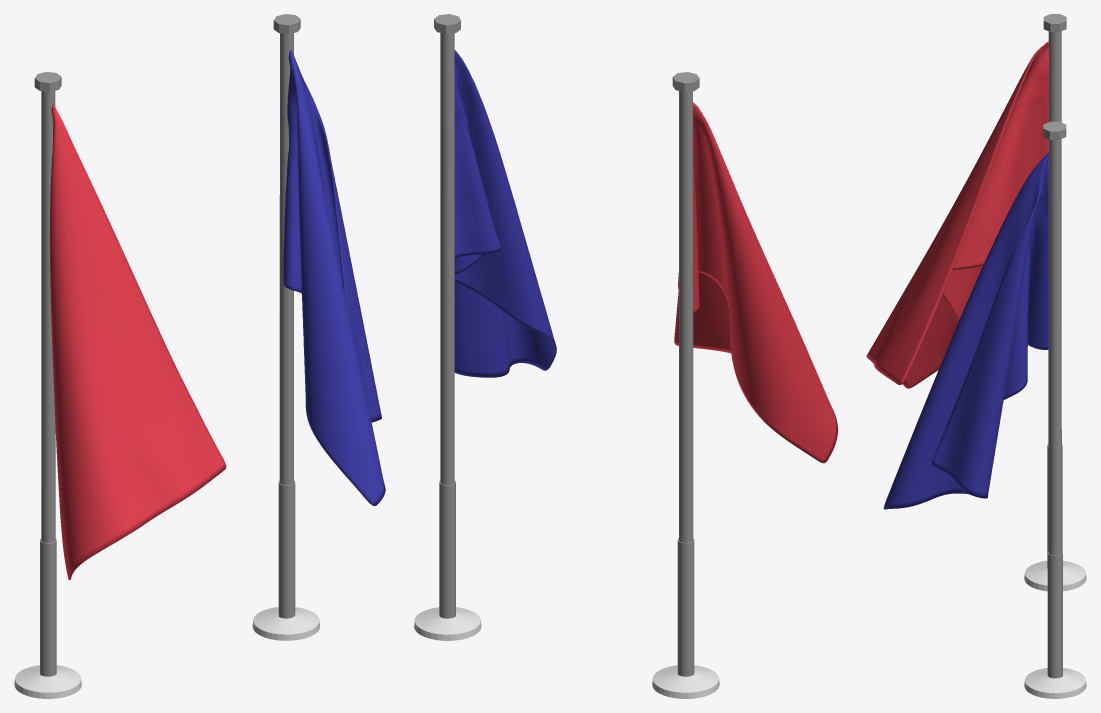
Rendered from baaaaayrak.fbx.
3 renders of one model, left to right at view 1: azimuth 30°, elevation 25°; view 2: azimuth 150°, elevation 25°; view 3: azimuth 270°, elevation 25°, orthographic. The views are drawn at different scales.
Visible parts, largest first — view 1: Sphere.001; view 2: Sphere.001; view 3: Sphere.001.
Part boxes in pixels (x1,y1,x2,y2): Sphere.001: [14, 14, 385, 698]; Sphere.001: [414, 14, 837, 698]; Sphere.001: [866, 14, 1086, 698].
Bounding box in the file's own units: 252 × 418 × 149.
